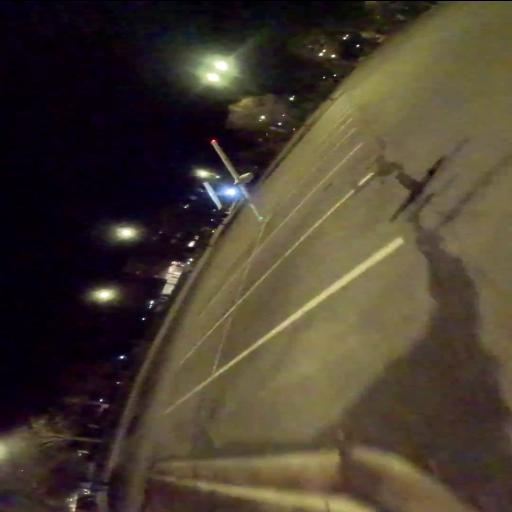uav: (202, 134, 266, 226)
